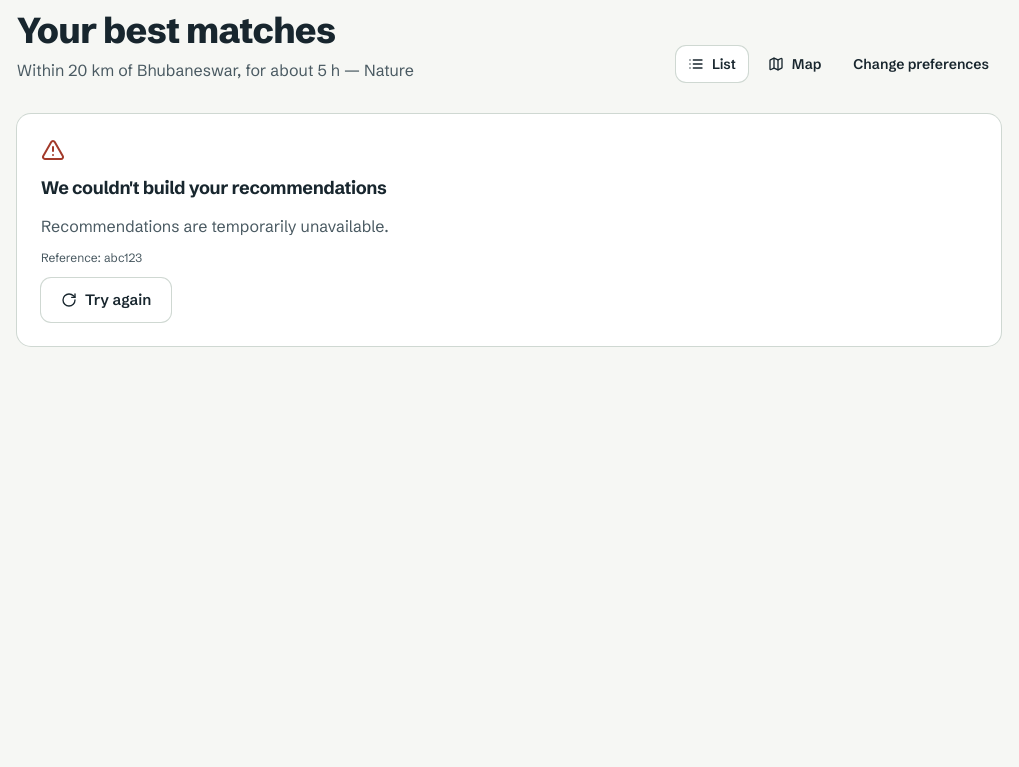
Test case: ResultsPage › shows a retryable error when every model fails, and retries on click
This screenshot has width=1019, height=767.
Expected: the heading "We couldn't build your recommendations" is shown, 41,174 -> 386,202
Expected: the text "Reference: abc123" is shown, 41,250 -> 142,266
Click the button "Try again" at (106, 300), box 41,278 -> 171,322
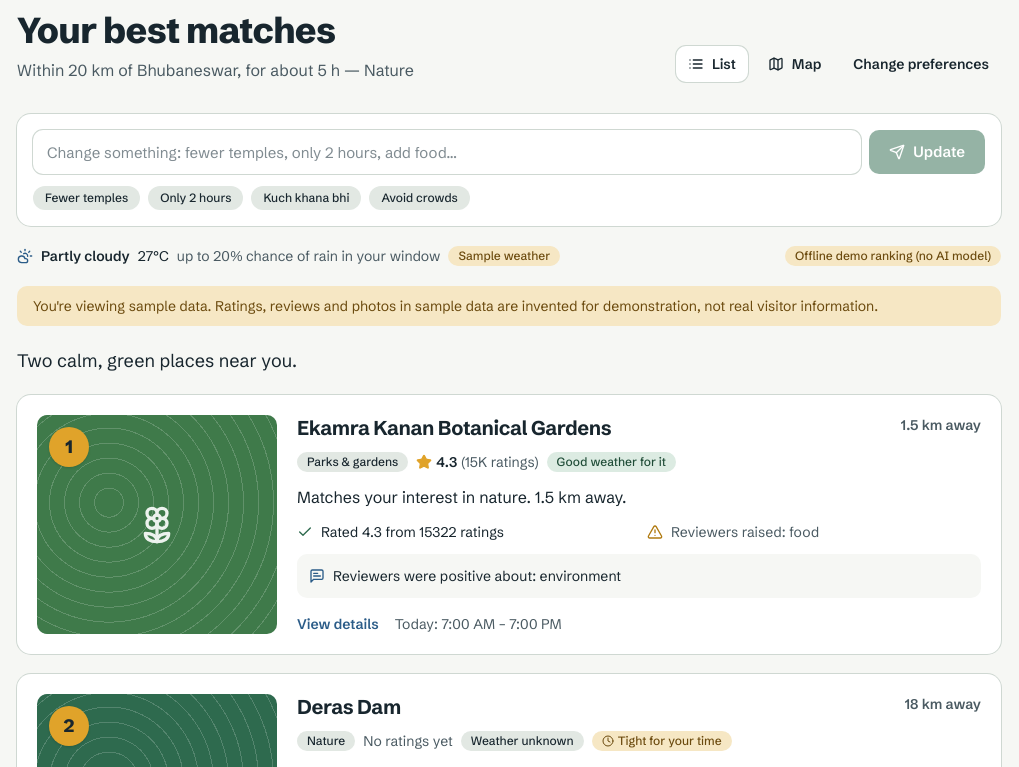
Expected: the heading "Deras Dam" is shown, 297,694 -> 401,719
